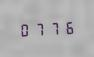seven: (32, 20, 45, 37), (46, 20, 59, 36)
six: (60, 19, 73, 35)
zero: (18, 21, 31, 37)
